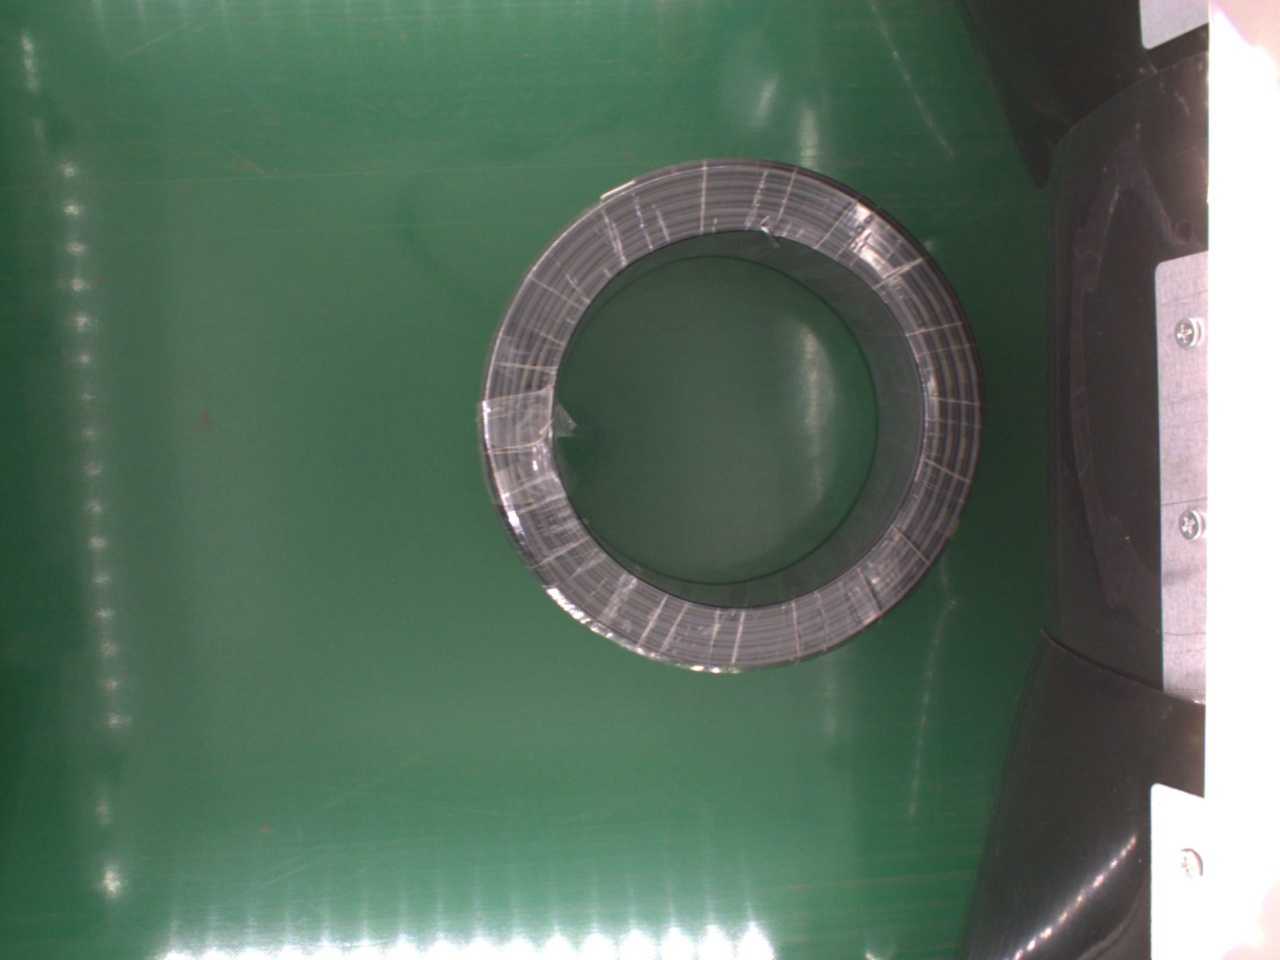black: (478, 160, 983, 673)
